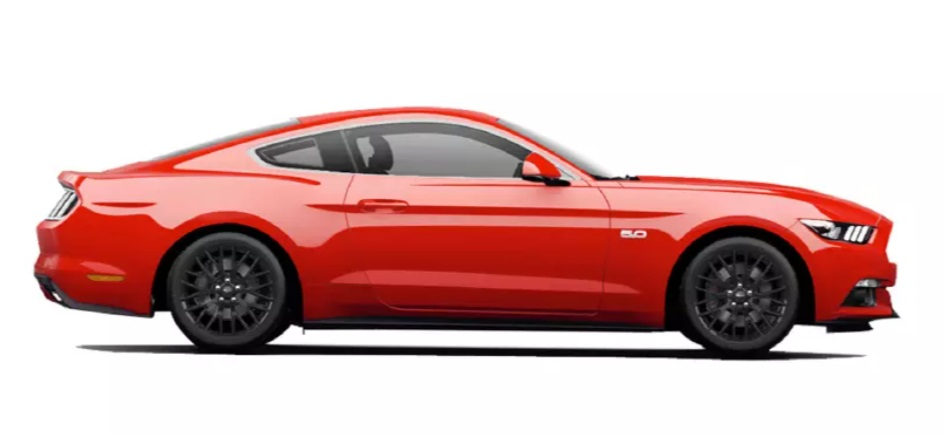Red: (30, 104, 904, 357)
